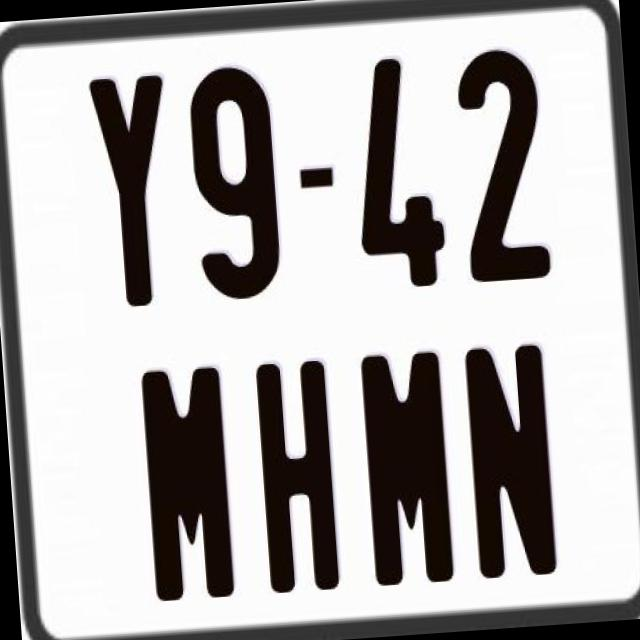2: (452, 47, 555, 286)
4: (344, 55, 448, 292)
9: (182, 63, 282, 300)
H: (254, 360, 346, 594)
M: (360, 350, 456, 587), (138, 362, 234, 598)
N: (462, 342, 556, 578)
Y: (87, 72, 178, 316)
